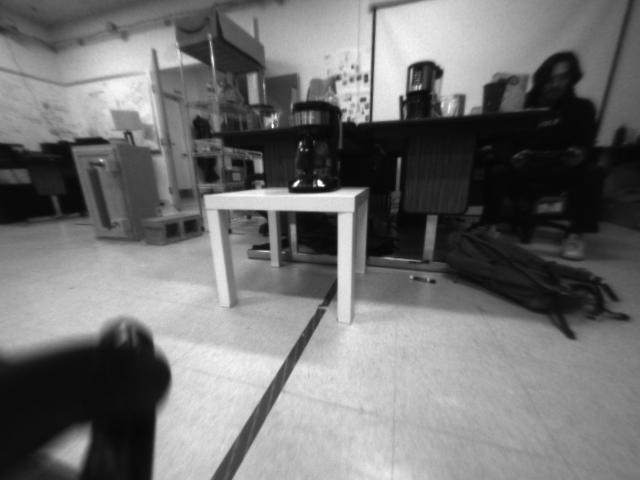coffee_pot: (285, 98, 345, 195)
